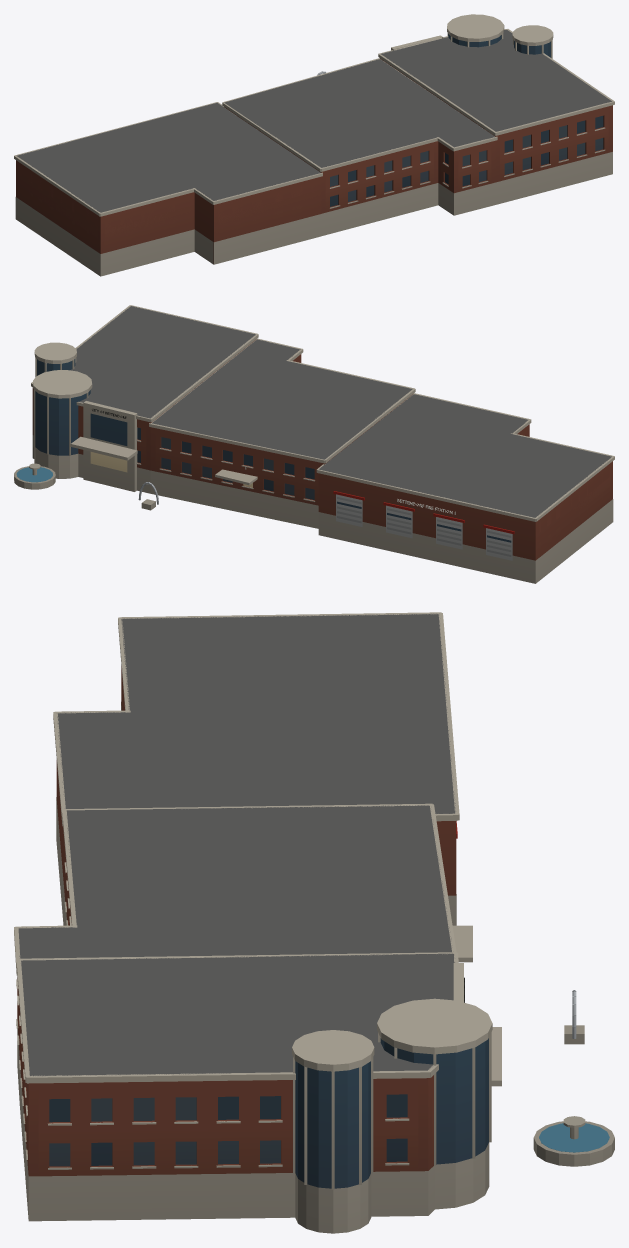
Rendered from cityhall.glb.
3 views of the same model, one above another, from view 1: azimuth 30°, elevation 25°; view 2: azimuth 150°, elevation 25°; view 3: azimuth 270°, elevation 25° (orthographic). The views are drawn at different scales.
Visible parts, largest first — view 1: cityhall_lod0; view 2: cityhall_lod0; view 3: cityhall_lod0.
Boxes of the visible parts, left/top/right/bottom form: cityhall_lod0: left=14, top=14, right=614, bottom=276; cityhall_lod0: left=14, top=305, right=614, bottom=583; cityhall_lod0: left=14, top=612, right=614, bottom=1233.
Size of what is drawn, in the model's own units: 92.51 by 14.8 by 47.35.
